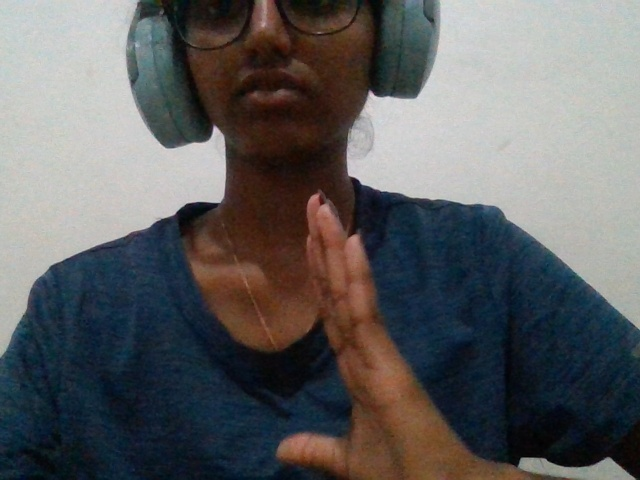Fine: (228, 173, 535, 480)
